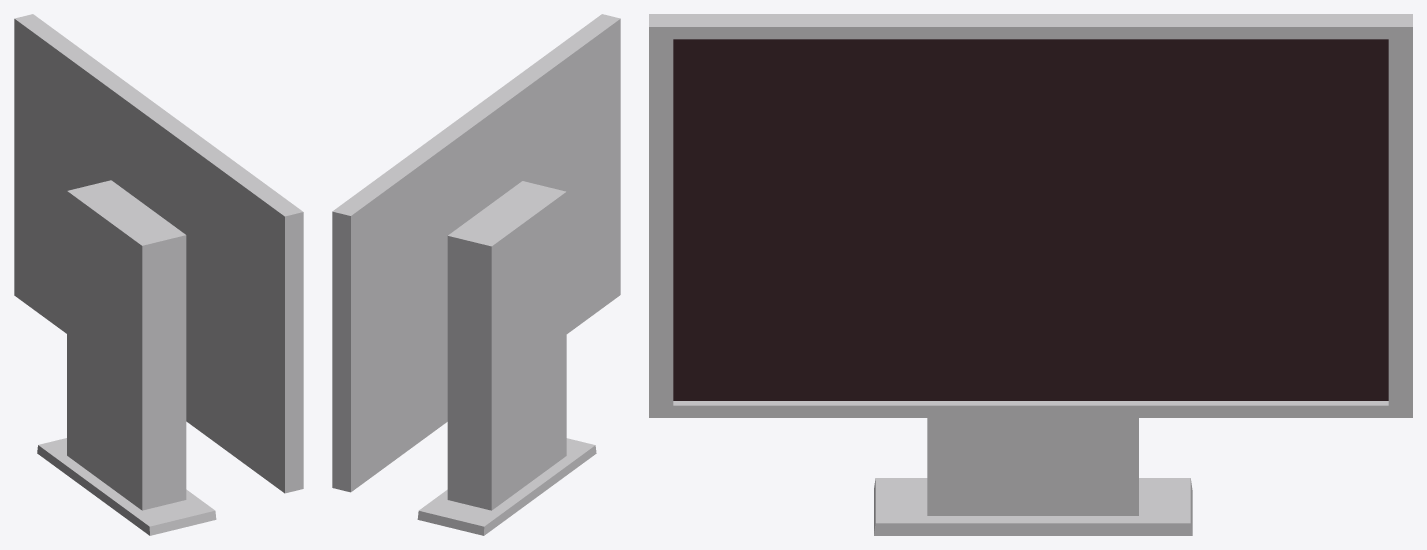
File: Monitor.glb
3 renders of one model, left to right at view 1: azimuth 30°, elevation 25°; view 2: azimuth 150°, elevation 25°; view 3: azimuth 270°, elevation 25°, orthographic. The views are drawn at different scales.
Parts seen in each view (by area): view 1: Monitor; view 2: Monitor; view 3: Monitor.
Boxes of the visible parts, x1,y1,x2,y2 form: Monitor: (14,14,303,535); Monitor: (332,14,620,535); Monitor: (649,14,1412,535).
Bounding box in the file's own units: 0.0682 × 0.3205 × 0.4314.
